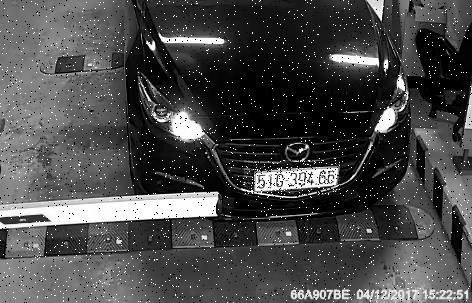License-plate: (245, 161, 341, 196)
